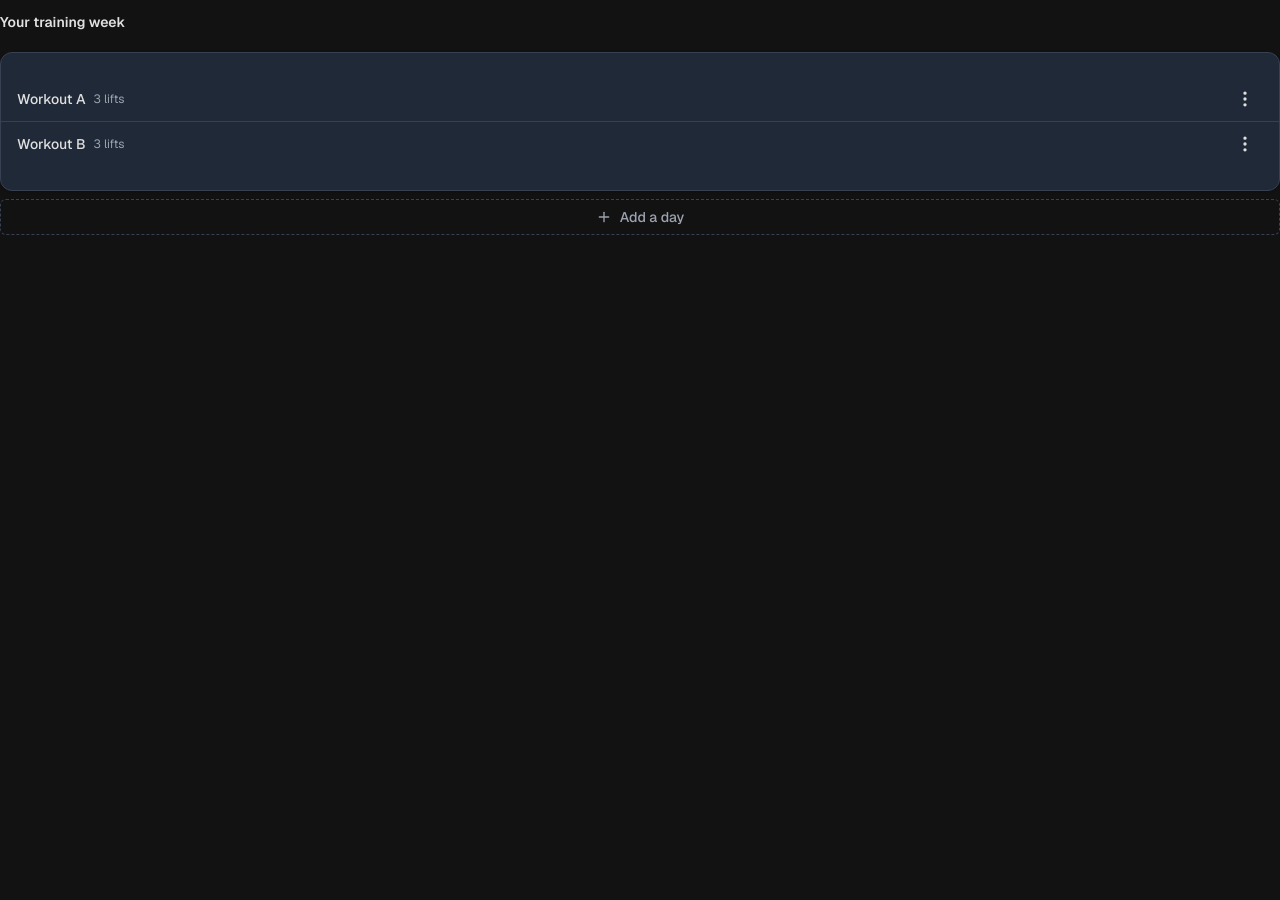
Test: the day sheet's move rows › disables Move up on the first day and Move down on the last
Click the button named "Options for Workout A" at (1245, 99), box [1227,81,1263,117]
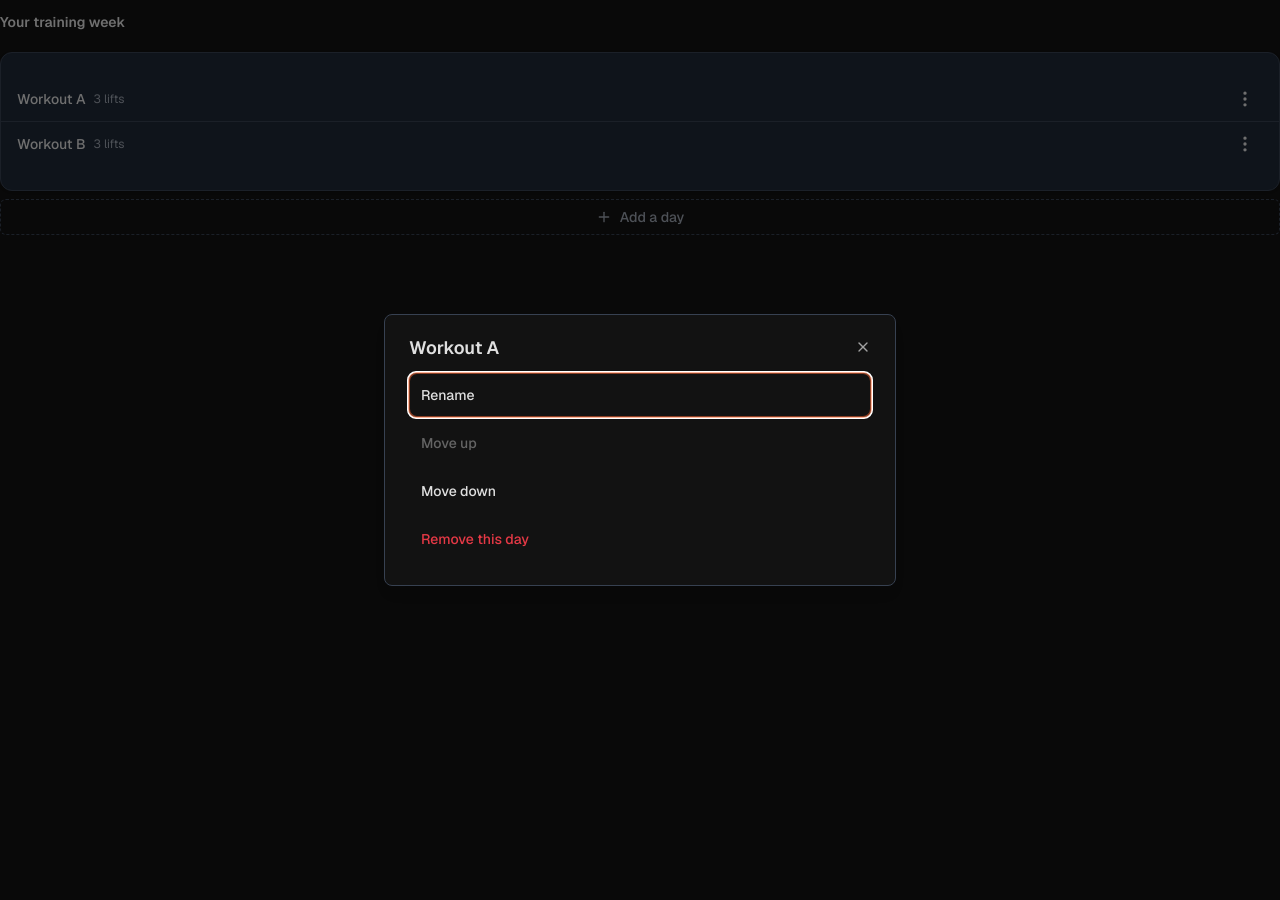
Expected: the button with test id "editor-day-up" is disabled, [409,421,871,465]
Expected: the button with test id "editor-day-down" is enabled, [409,469,871,513]
Press Escape
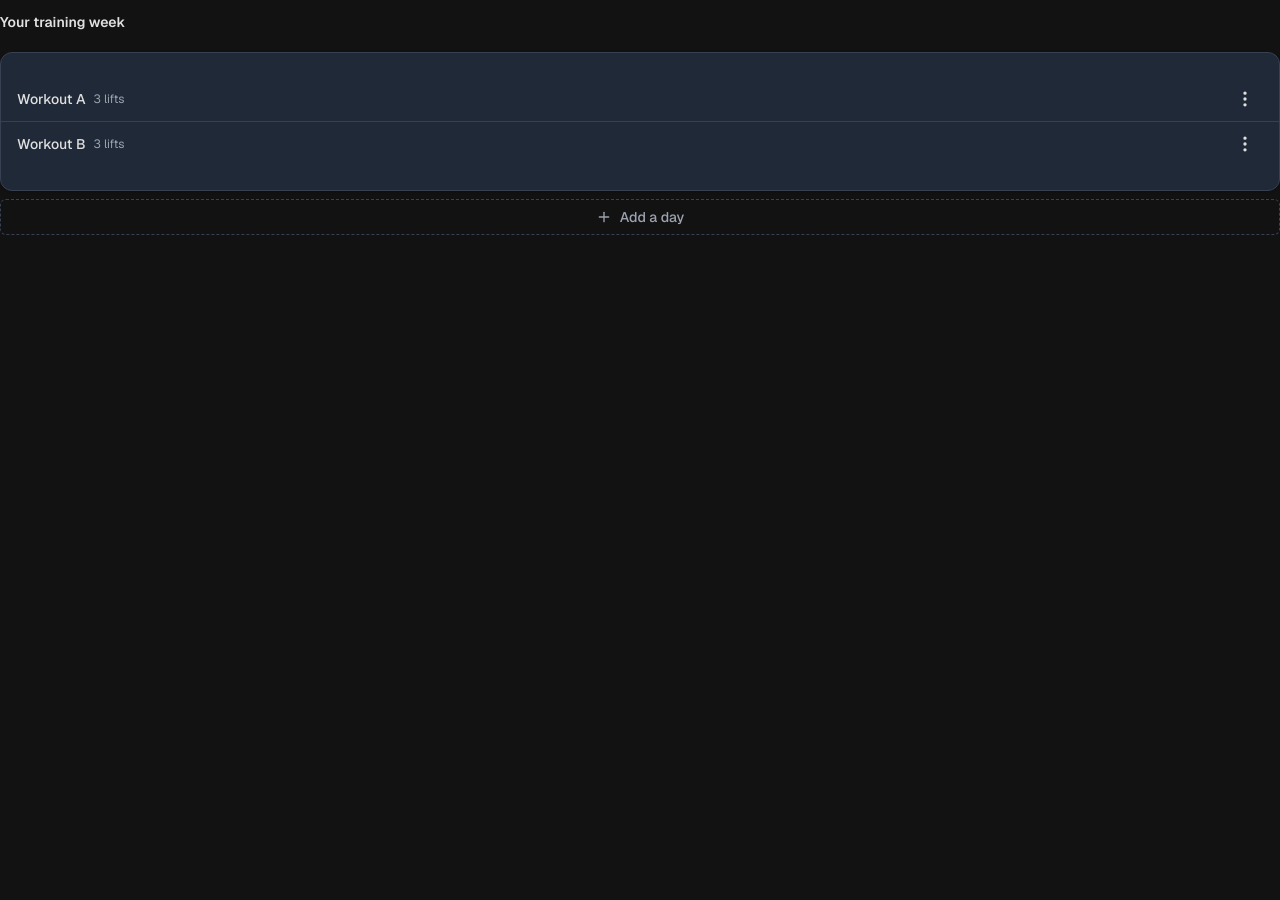
Click the button named "Options for Workout B" at (1245, 144), box [1227,126,1263,162]
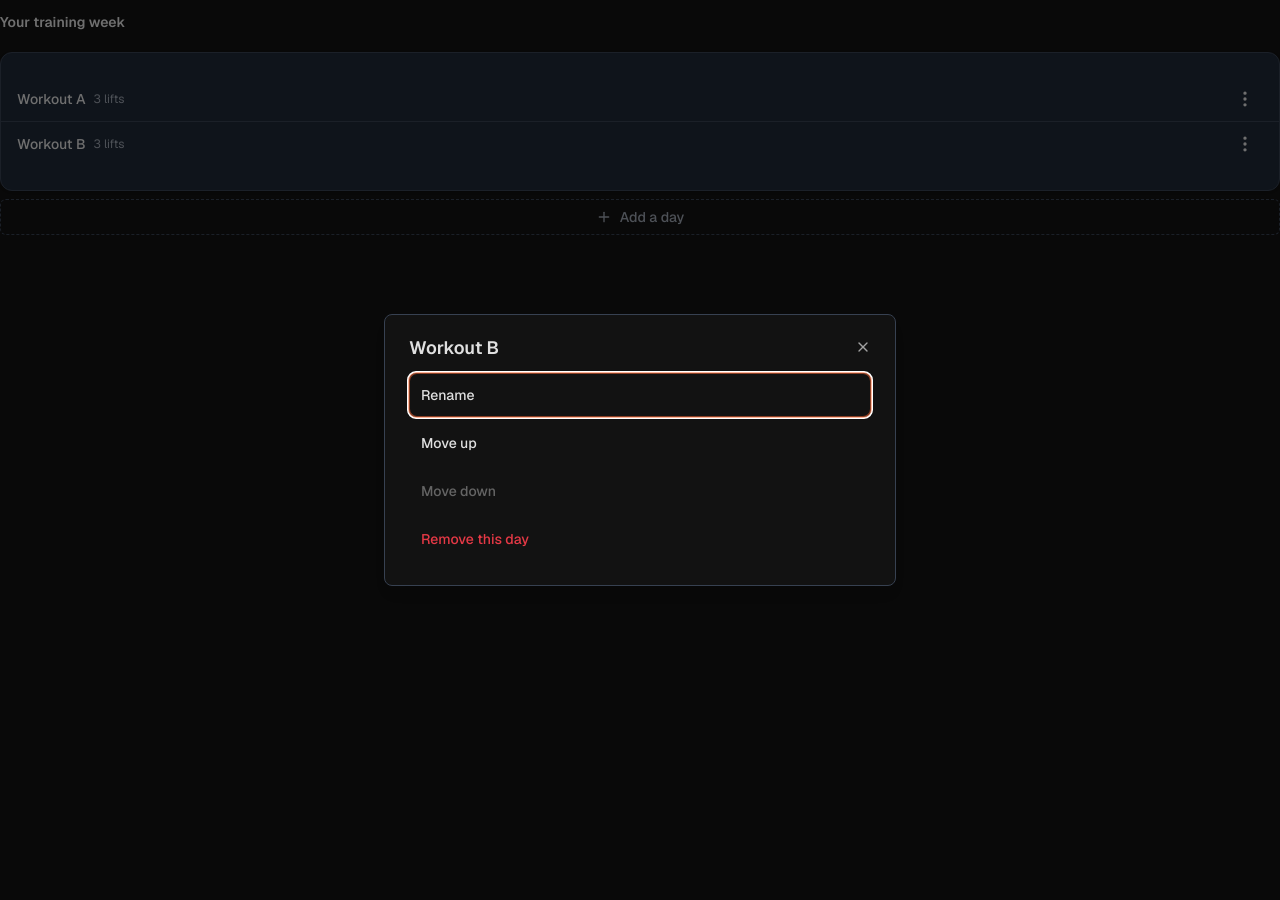
Expected: the button with test id "editor-day-down" is disabled, [409,469,871,513]
